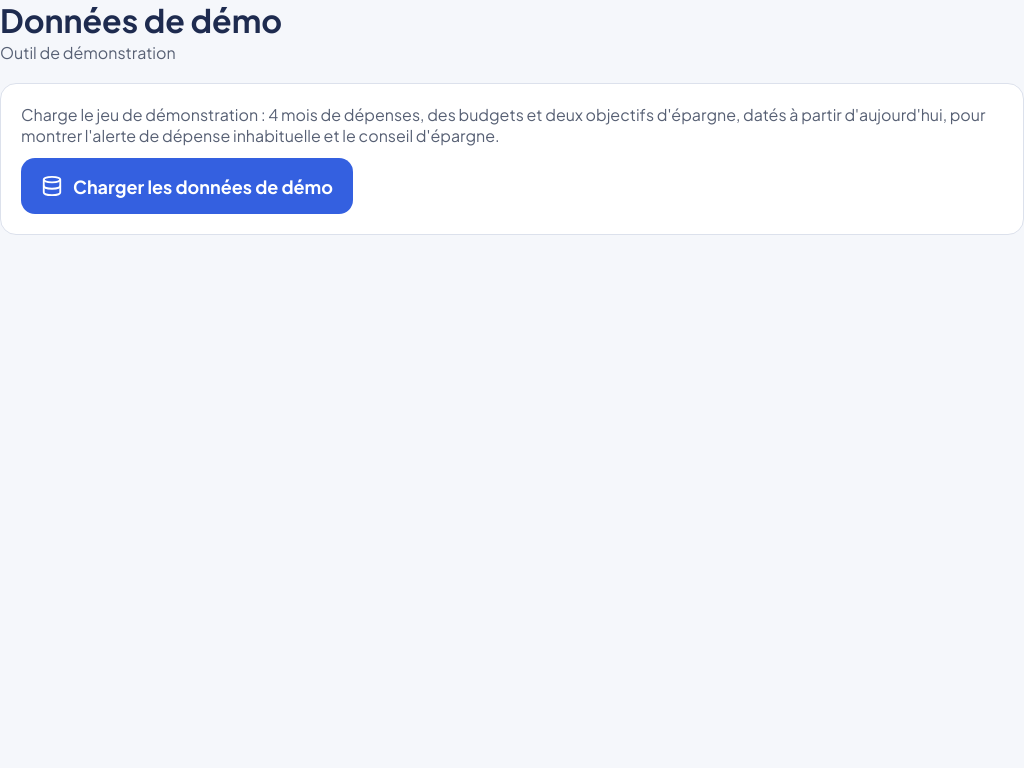
Test: page /demo › « Charger » : un seul envoi, retour à l’Accueil, message sans « Annuler »
This screenshot has width=1024, height=768.
Click the button "Charger les données de démo" at (187, 186), box [21,158,353,214]
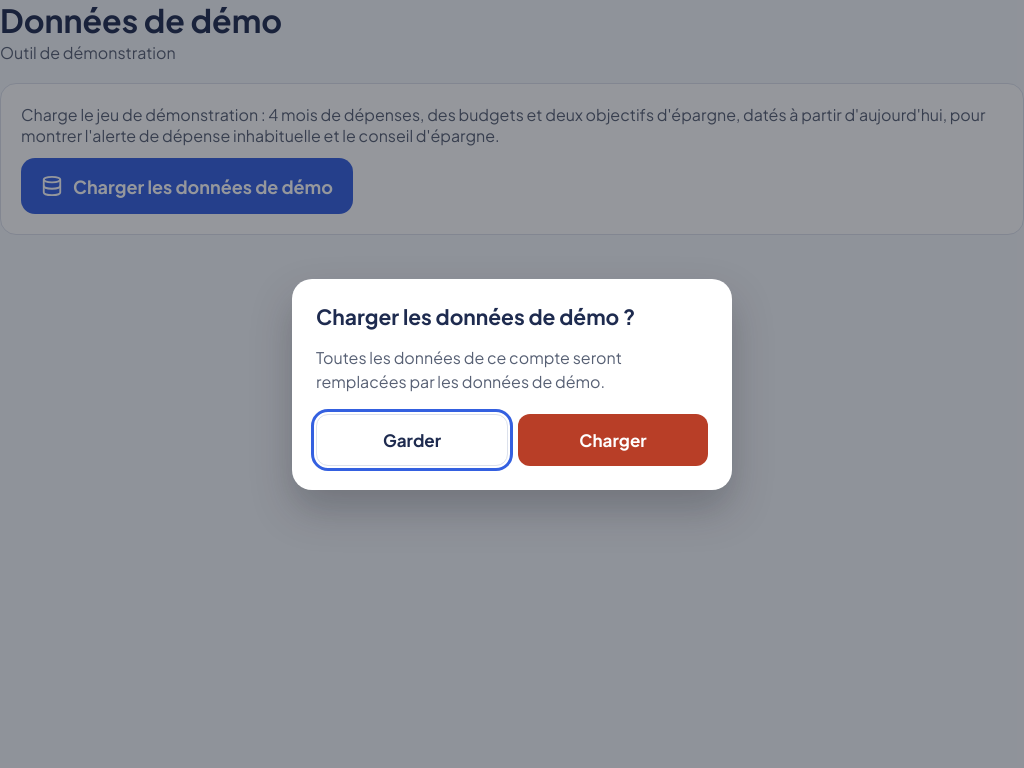
Click the button "Charger" at (613, 440), box [518,414,708,466]
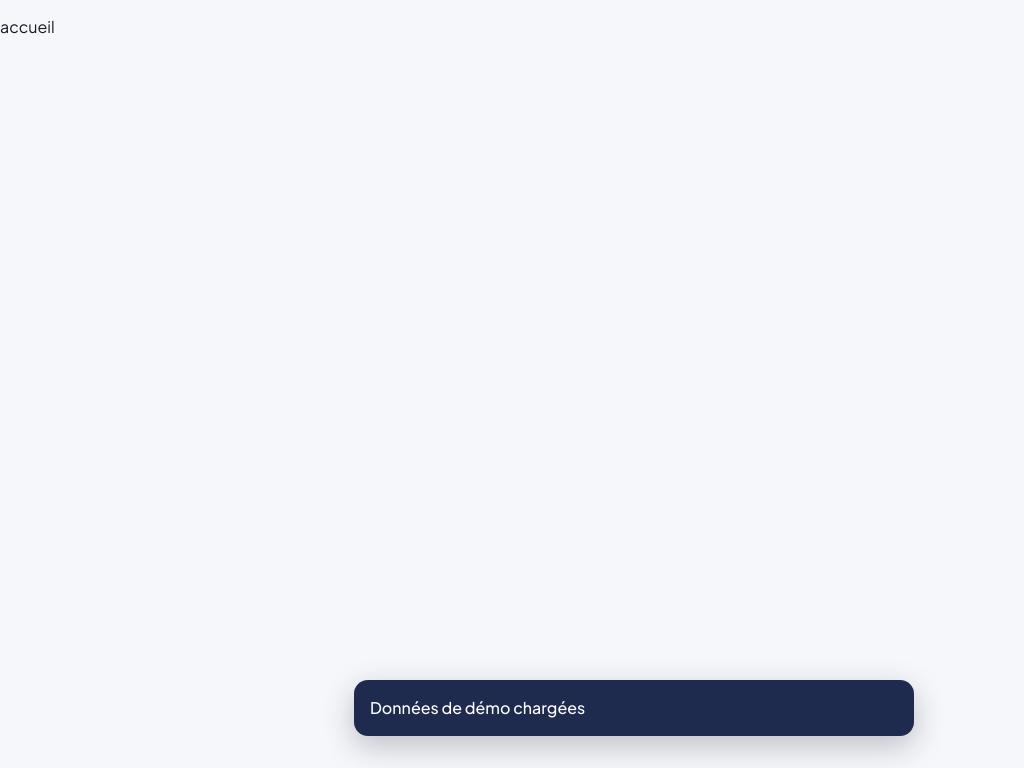
Expected: the text "accueil" is shown, [0,16,55,37]
Expected: the message reads "Données de démo chargées", [370,697,585,718]
